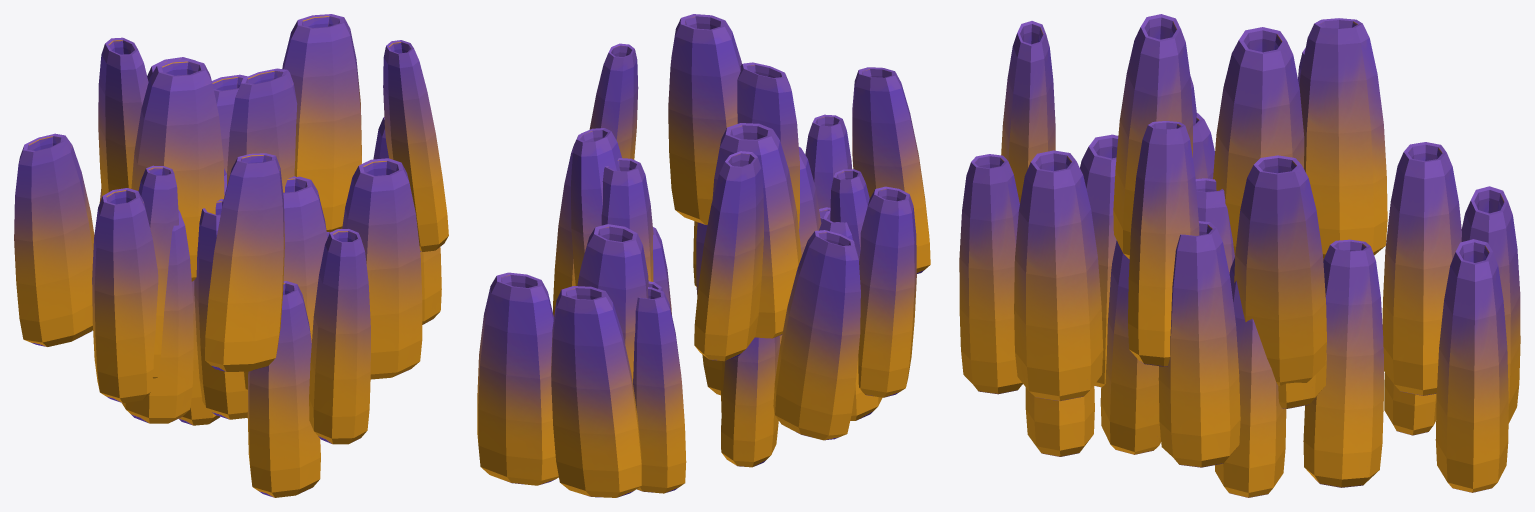
File: purpyellowcoral1.glb
The picture shows the model from 3 angles, left to right: view 1: azimuth 30°, elevation 25°; view 2: azimuth 150°, elevation 25°; view 3: azimuth 270°, elevation 25°; orthographic projection. The views are drawn at different scales.
Visible parts, largest first — view 1: coral 1; view 2: coral 1; view 3: coral 1.
Part boxes in pixels (left/top/right/bottom): coral 1: left=14, top=14, right=448, bottom=497; coral 1: left=477, top=14, right=930, bottom=497; coral 1: left=959, top=14, right=1520, bottom=497.
Bounding box in the file's own units: 5.93 × 6.44 × 7.02.
1 material, 1 textured.
